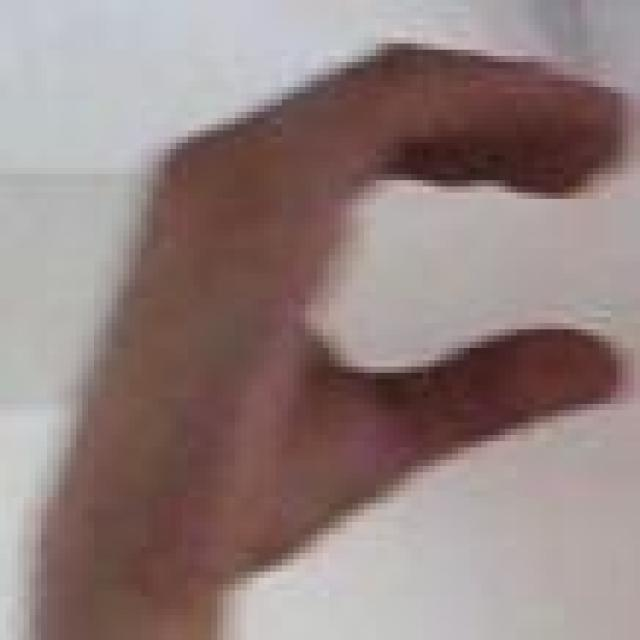C: (30, 12, 640, 602)
